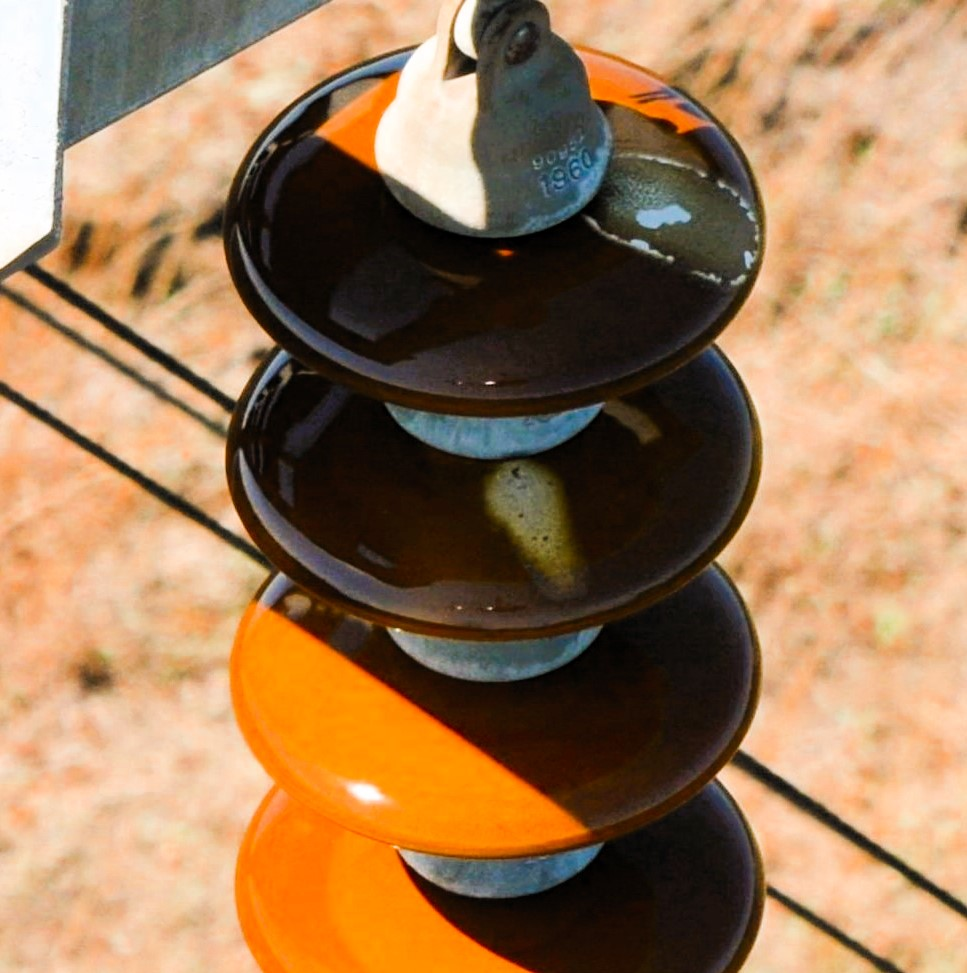Insulator flashover: (210, 26, 778, 425)
